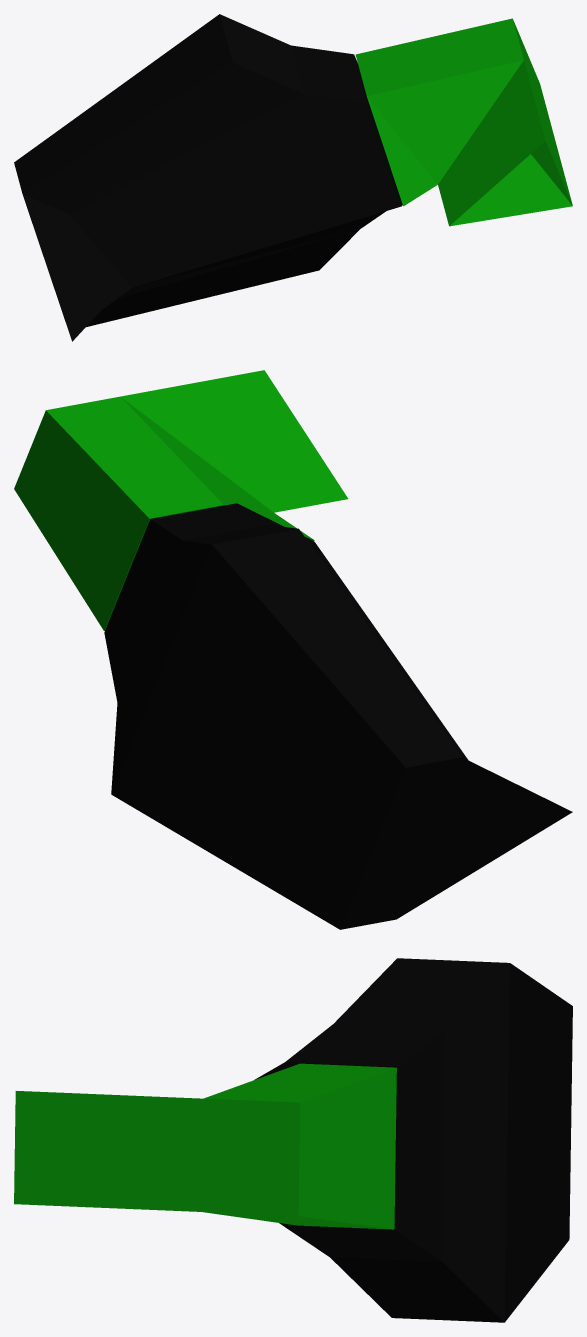
Rendered from gargoyle.obj.
The picture shows the model from 3 angles, top to bottom: view 1: azimuth 30°, elevation 25°; view 2: azimuth 150°, elevation 25°; view 3: azimuth 270°, elevation 25°; orthographic projection. The views are drawn at different scales.
Bounding box in the file's own units: 2.59 × 1.48 × 2.02.
